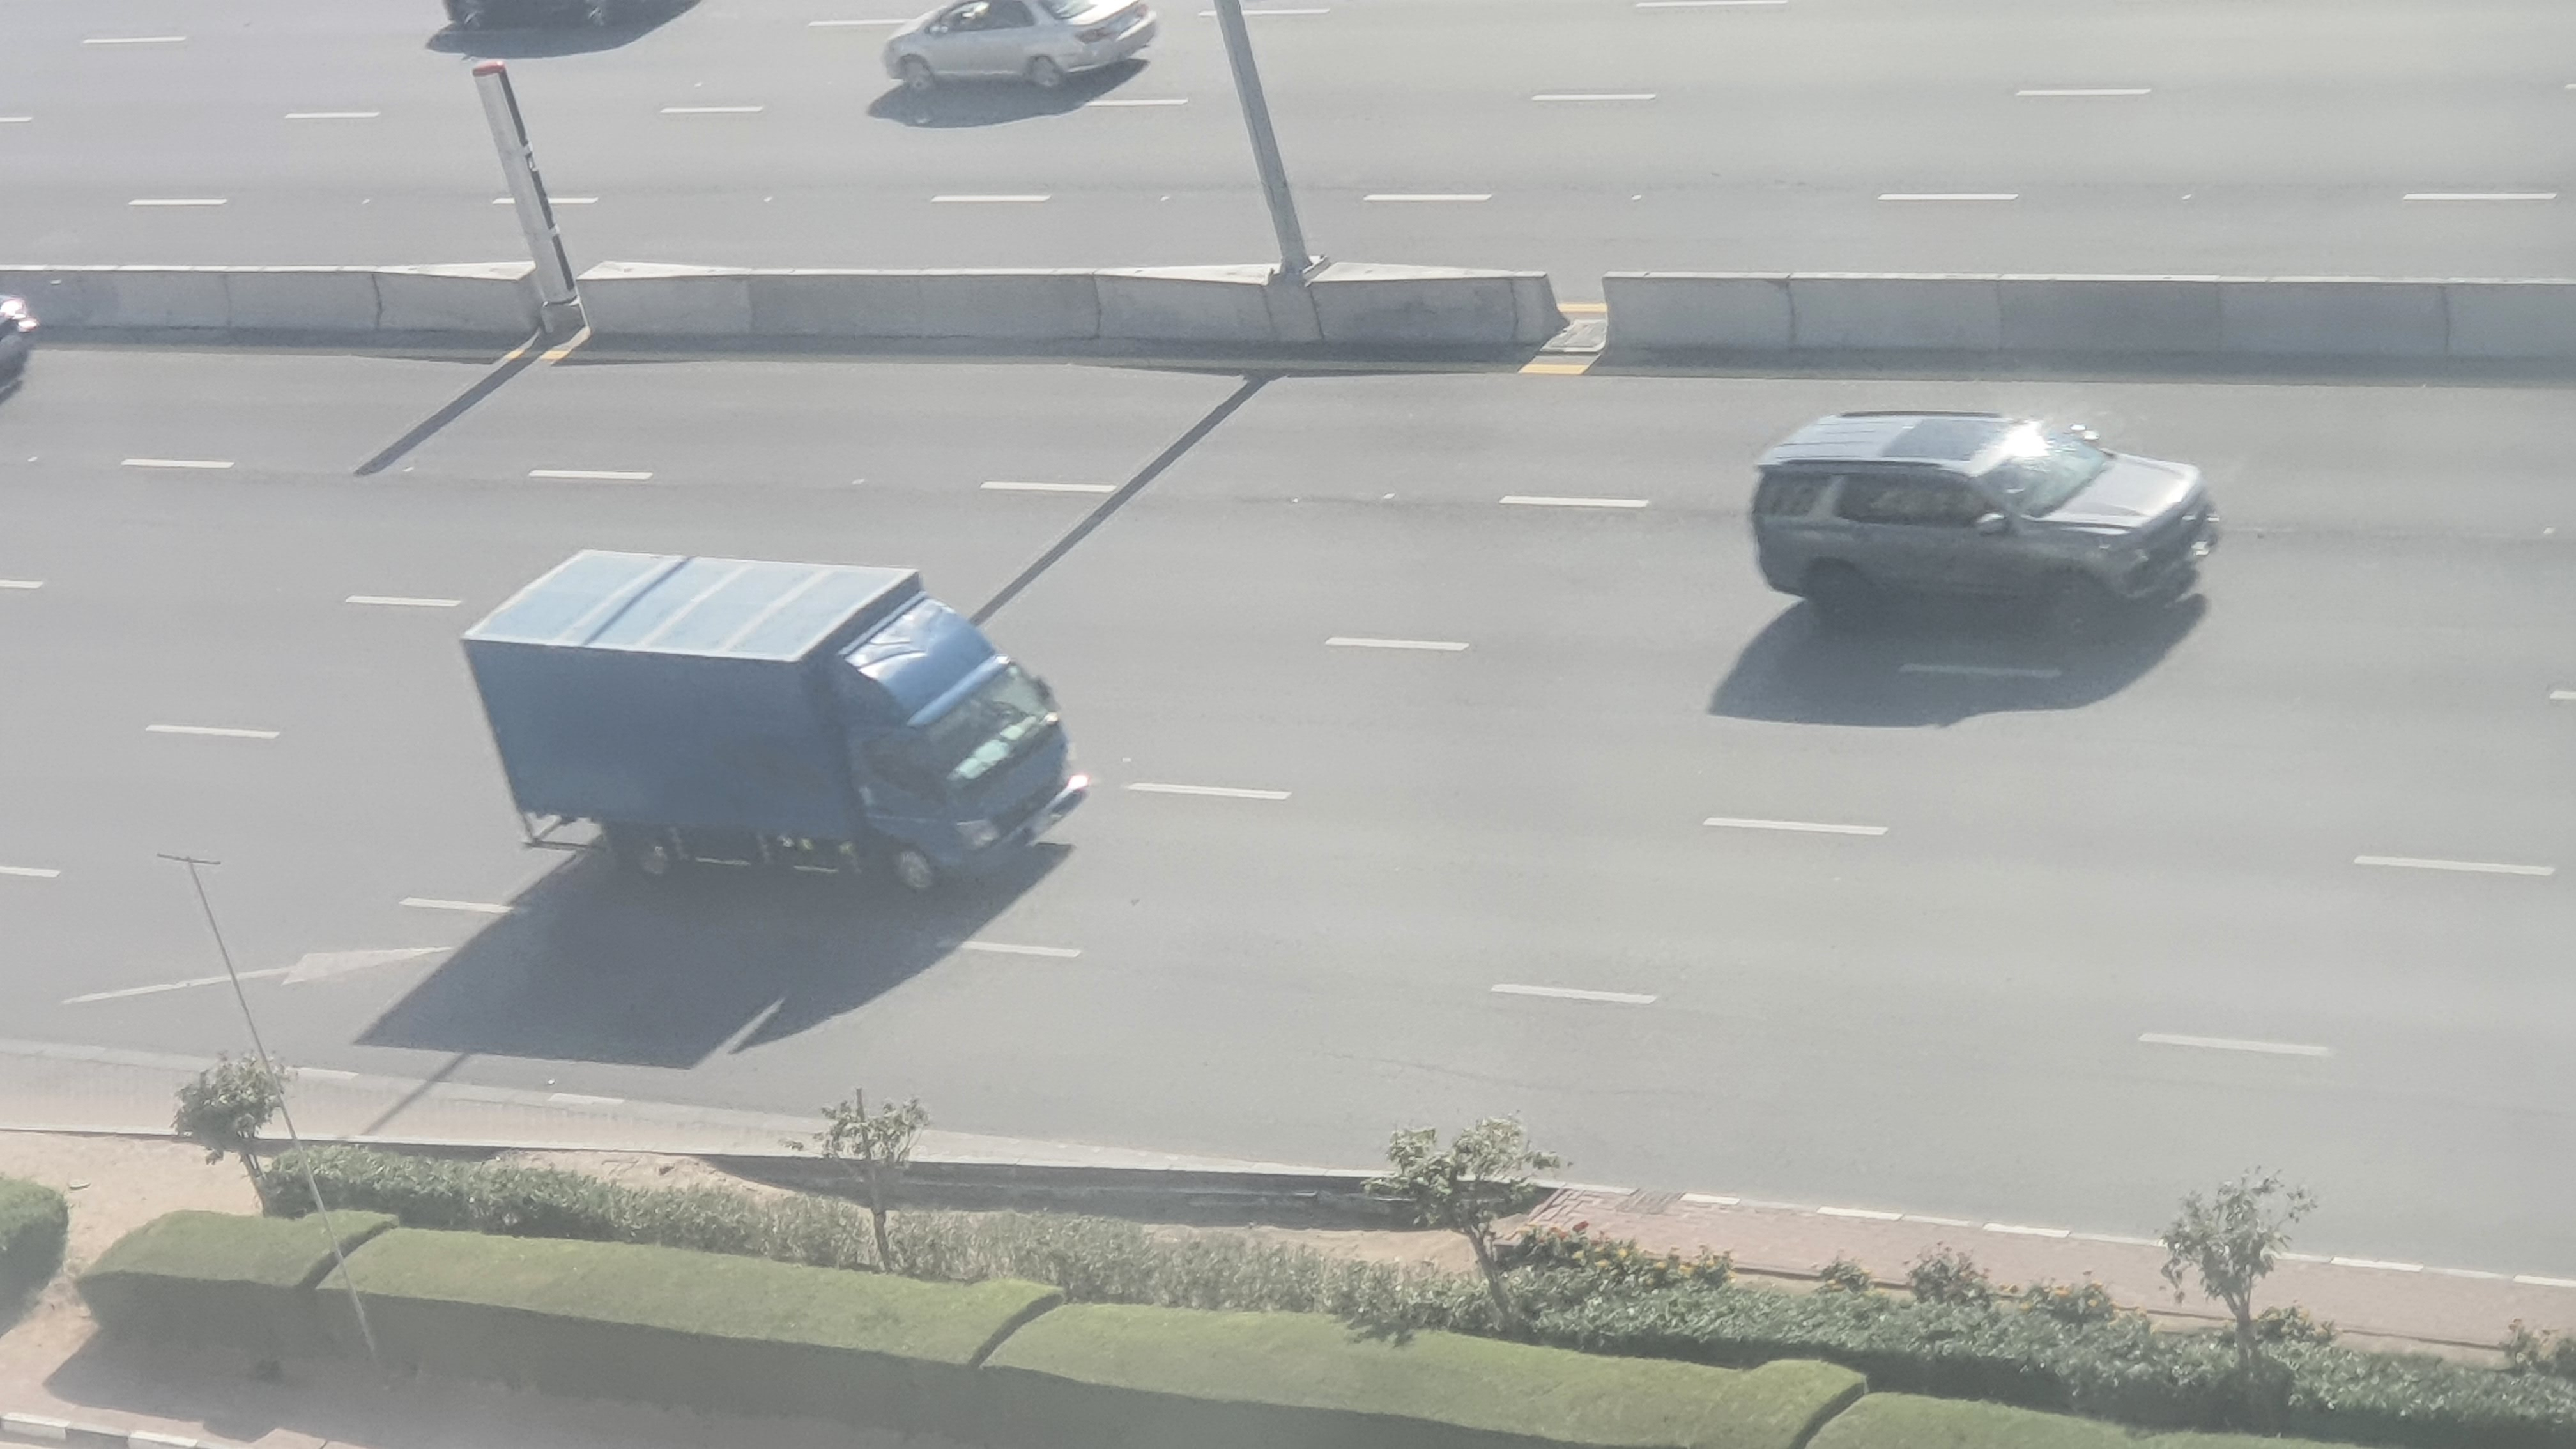Sunroof: (1744, 409, 2222, 635)
